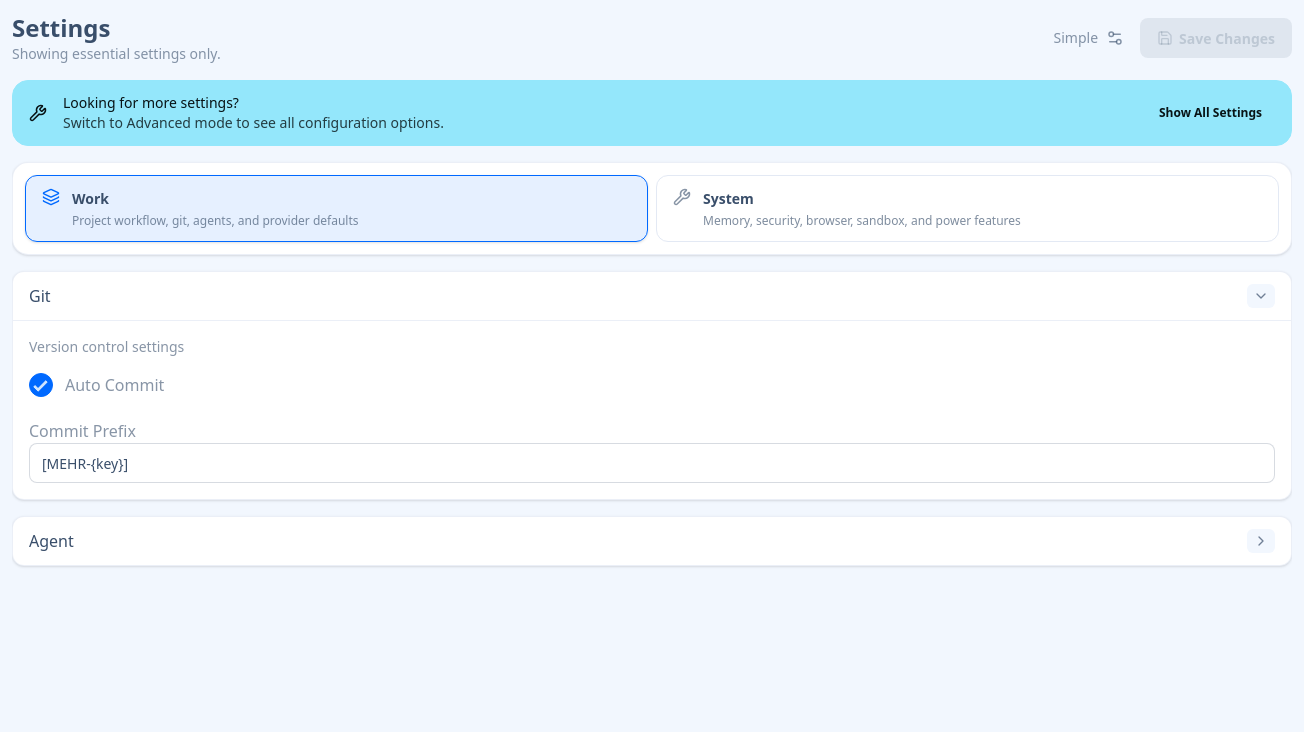
Scenario: Settings Page › switches to Advanced section and shows feature settings in advanced mode
Click the tab "System". click: point(728, 198)
box: x1=656 y1=175 x2=1279 y2=242
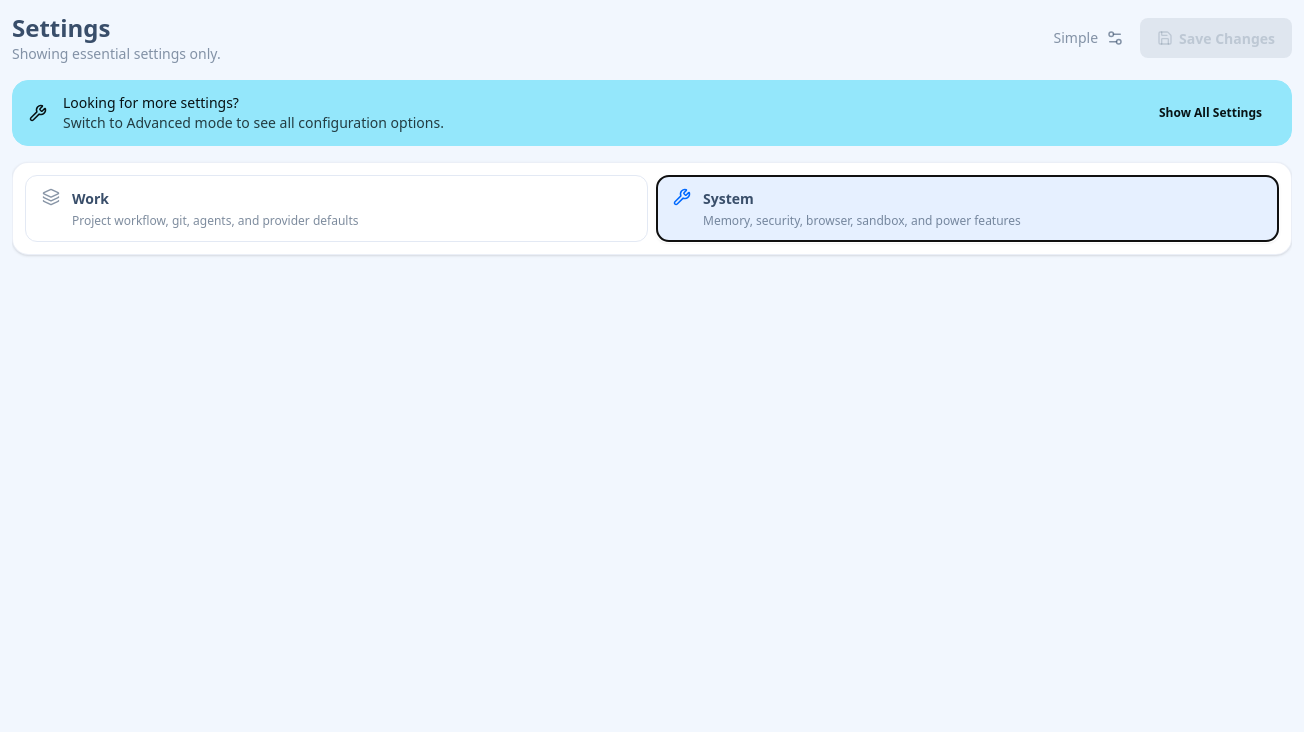
Click the checkbox named "switch to advanced". click: point(1115, 38)
box: x1=1106 y1=29 x2=1124 y2=47
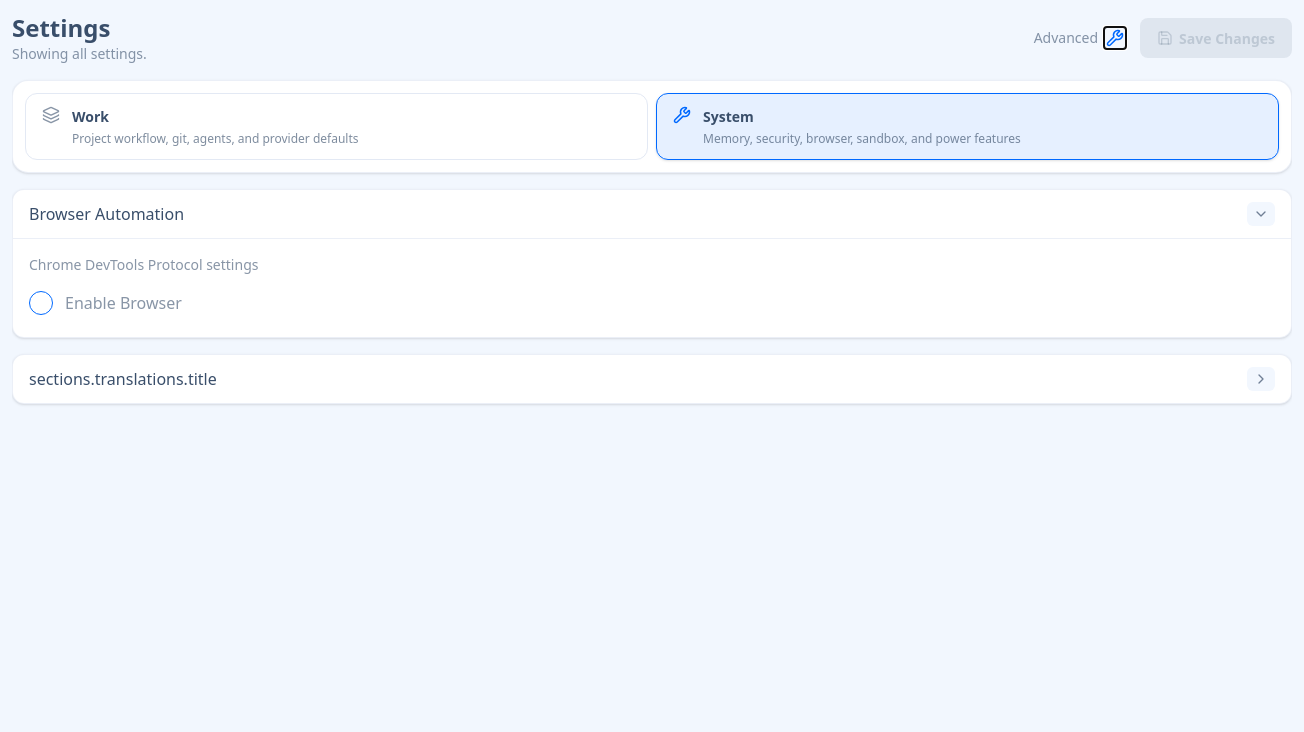
Expected: the text "Browser Automation" is shown, x1=29 y1=202 x2=184 y2=226
